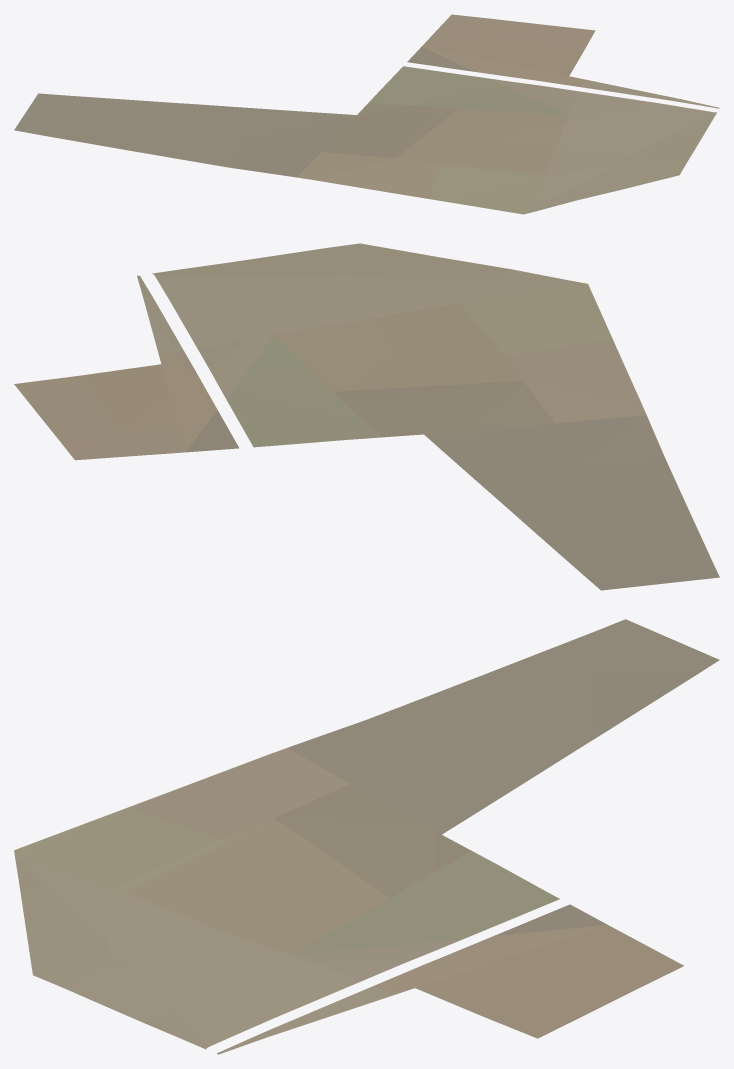
File: farm_26_17_soil.glb
3 views of the same model, one above another, from view 1: azimuth 30°, elevation 25°; view 2: azimuth 150°, elevation 25°; view 3: azimuth 270°, elevation 25° (orthographic). The views are drawn at different scales.
Visible parts, largest first — view 1: geometry_0; view 2: geometry_0; view 3: geometry_0.
Boxes of the visible parts, x1,y1,x2,y2 form: geometry_0: [14, 14, 719, 214]; geometry_0: [14, 243, 719, 590]; geometry_0: [14, 619, 719, 1054].
Size of the model in its own units: 478 by 12.78 by 346.
